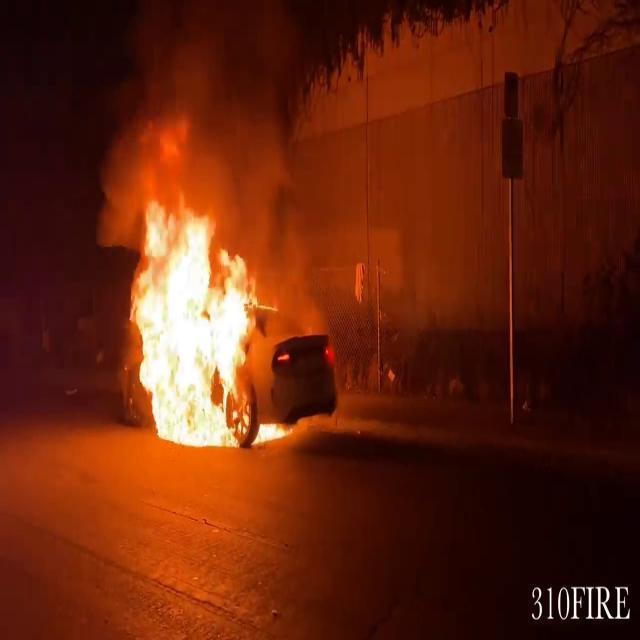Fire: (120, 180, 283, 450)
Smoke: (91, 0, 325, 220)
